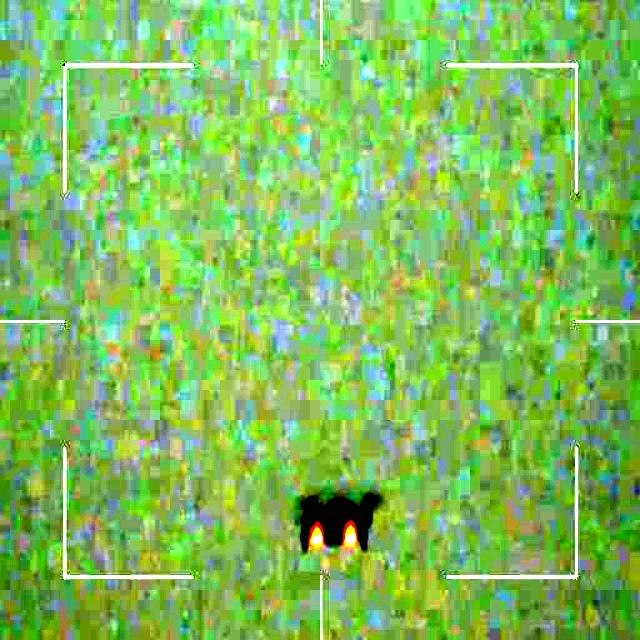bird: (296, 491, 382, 555)
